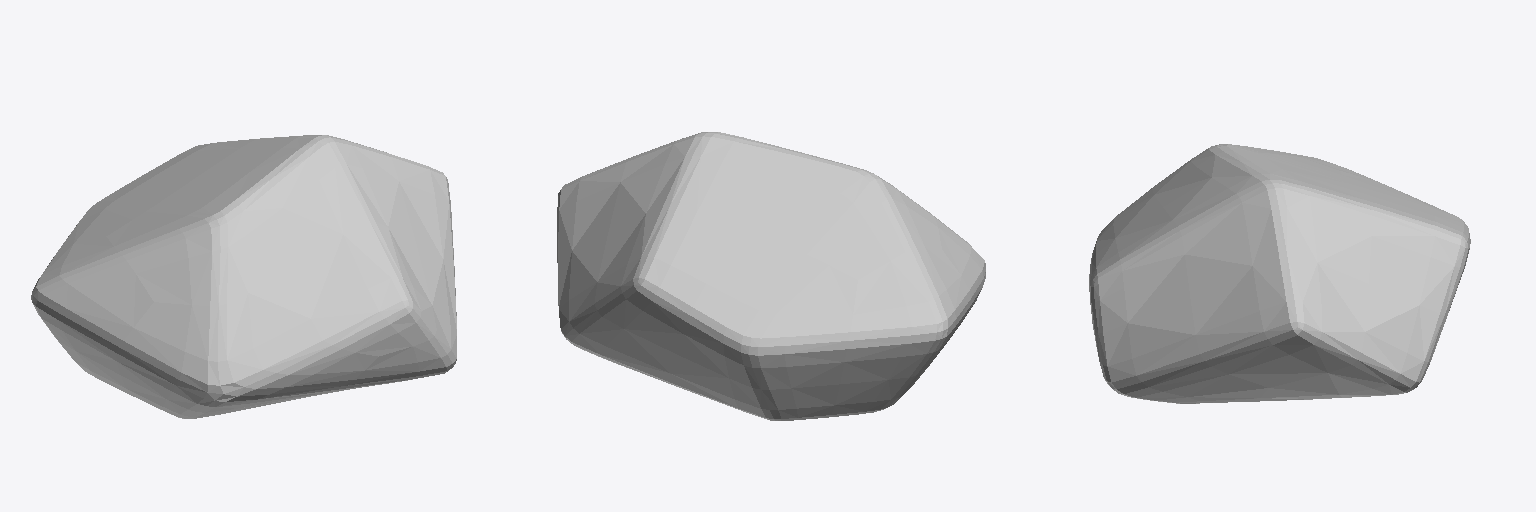
Rendered from rock-03.obj.
The picture shows the model from 3 angles: view 1: azimuth 30°, elevation 25°; view 2: azimuth 150°, elevation 25°; view 3: azimuth 270°, elevation 25°; orthographic projection.
Visible parts, largest first — view 1: rock_03; view 2: rock_03; view 3: rock_03.
Part boxes in pixels (x1,y1,x2,y2): rock_03: (31, 135, 456, 418); rock_03: (557, 132, 985, 420); rock_03: (1089, 144, 1470, 403).
Size of the model in its own units: 0.4802 by 0.2408 by 0.3977.